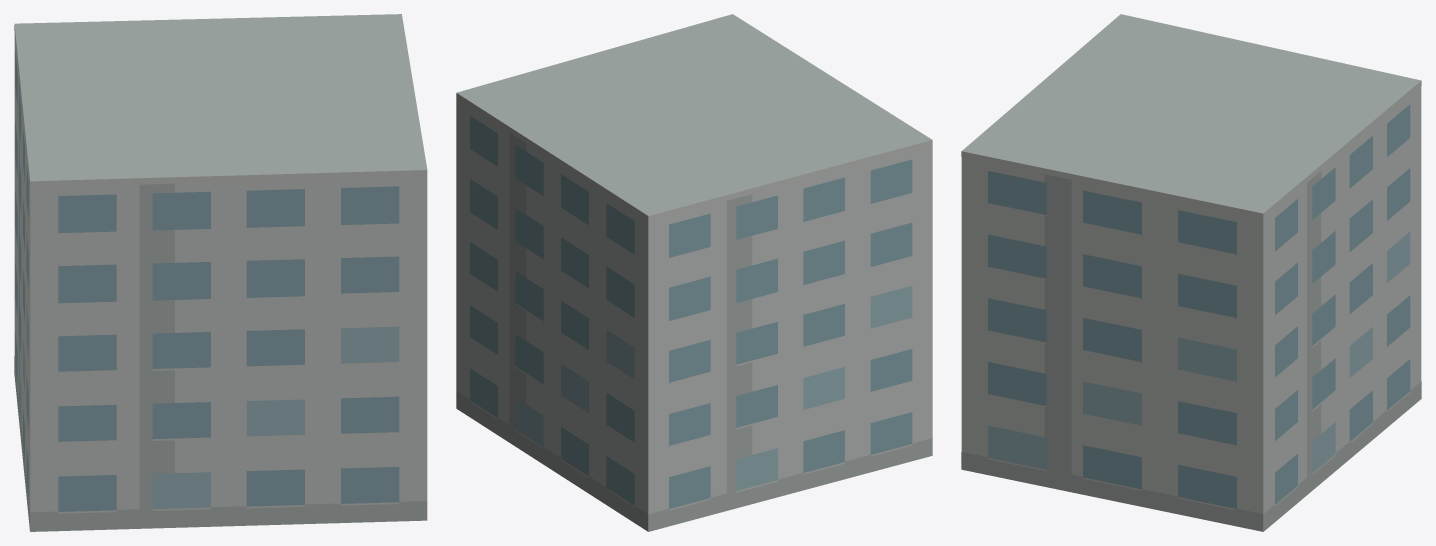
File: survey-upis-32886162.glb
3 renders of one model, left to right at view 1: azimuth 30°, elevation 25°; view 2: azimuth 150°, elevation 25°; view 3: azimuth 270°, elevation 25°, orthographic. The views are drawn at different scales.
Parts seen in each view (by area): view 1: survey-upis-32886162.tmp; view 2: survey-upis-32886162.tmp; view 3: survey-upis-32886162.tmp.
Boxes of the visible parts, box(x1,y1,x2,y2) form: survey-upis-32886162.tmp: box(14, 14, 427, 531); survey-upis-32886162.tmp: box(456, 14, 932, 531); survey-upis-32886162.tmp: box(961, 14, 1421, 531).
Size of the model in its own units: 17.75 by 13.2 by 17.29.
